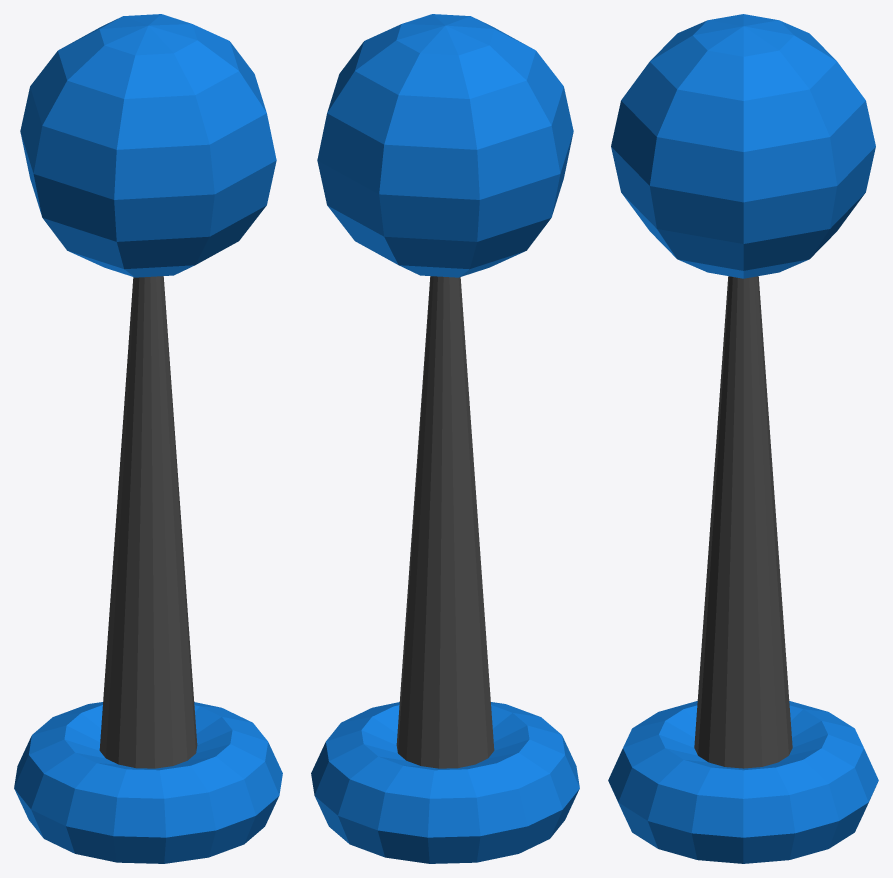
The model's file is Rocket Part_TIP.fbx.
The picture shows the model from 3 angles, left to right: view 1: azimuth 30°, elevation 25°; view 2: azimuth 150°, elevation 25°; view 3: azimuth 270°, elevation 25°; orthographic projection.
Visible parts, largest first — view 1: Tip Accent Topper Part, Tip.001, PART_Tip Accent; view 2: Tip Accent Topper Part, Tip.001, PART_Tip Accent; view 3: Tip Accent Topper Part, Tip.001, PART_Tip Accent.
Part boxes in pixels (left/top/right/bottom): Tip Accent Topper Part: left=20, top=14, right=276, bottom=277; Tip.001: left=99, top=276, right=197, bottom=768; PART_Tip Accent: left=14, top=702, right=282, bottom=863; Tip Accent Topper Part: left=317, top=14, right=573, bottom=277; Tip.001: left=396, top=276, right=494, bottom=768; PART_Tip Accent: left=311, top=702, right=579, bottom=863; Tip Accent Topper Part: left=611, top=14, right=875, bottom=278; Tip.001: left=694, top=276, right=792, bottom=768; PART_Tip Accent: left=608, top=701, right=878, bottom=863.
Bounding box in the file's own units: 160 × 522 × 160.
